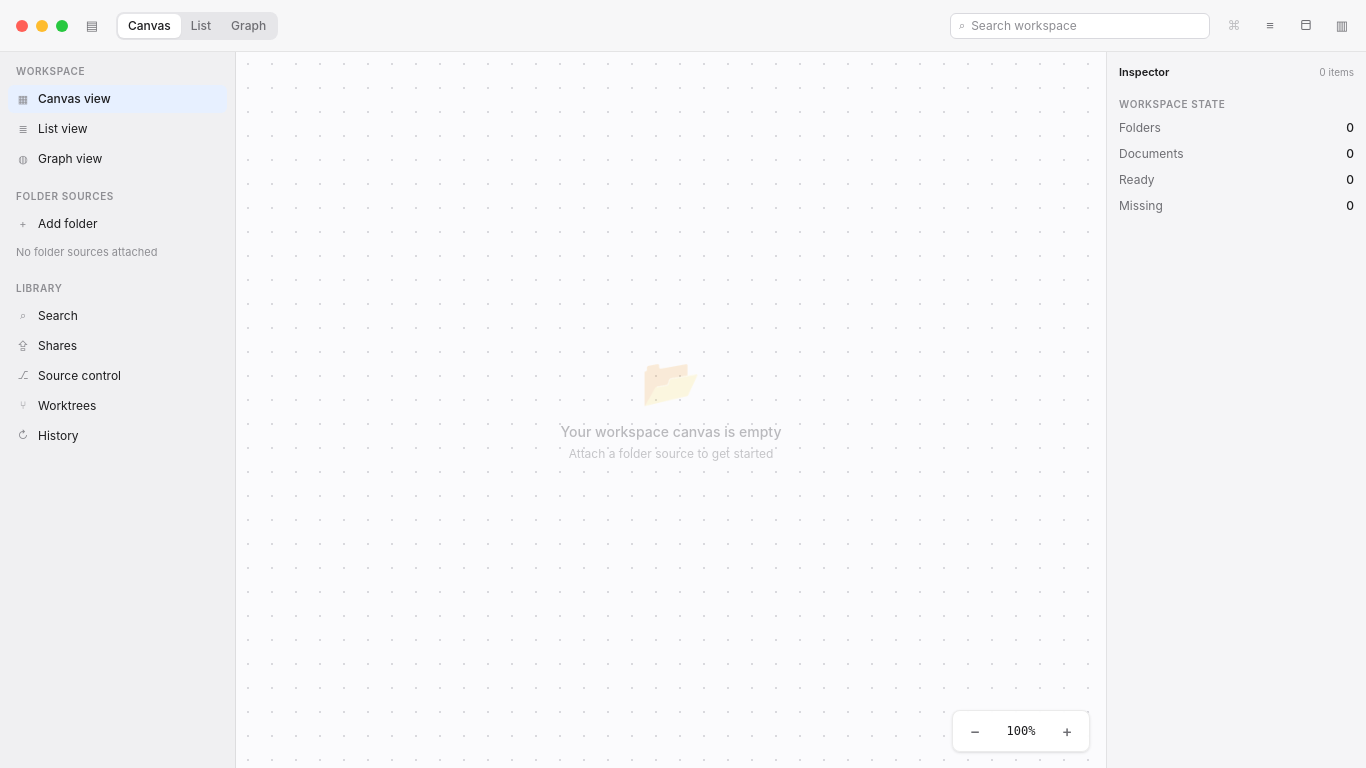
Test: UI-01 shell structure › shows the graph scope and edge legend in the inspector for the graph view
The image size is (1366, 768).
Click the radio button with test id "view-graph-btn": (249, 26) [221,14,276,38]
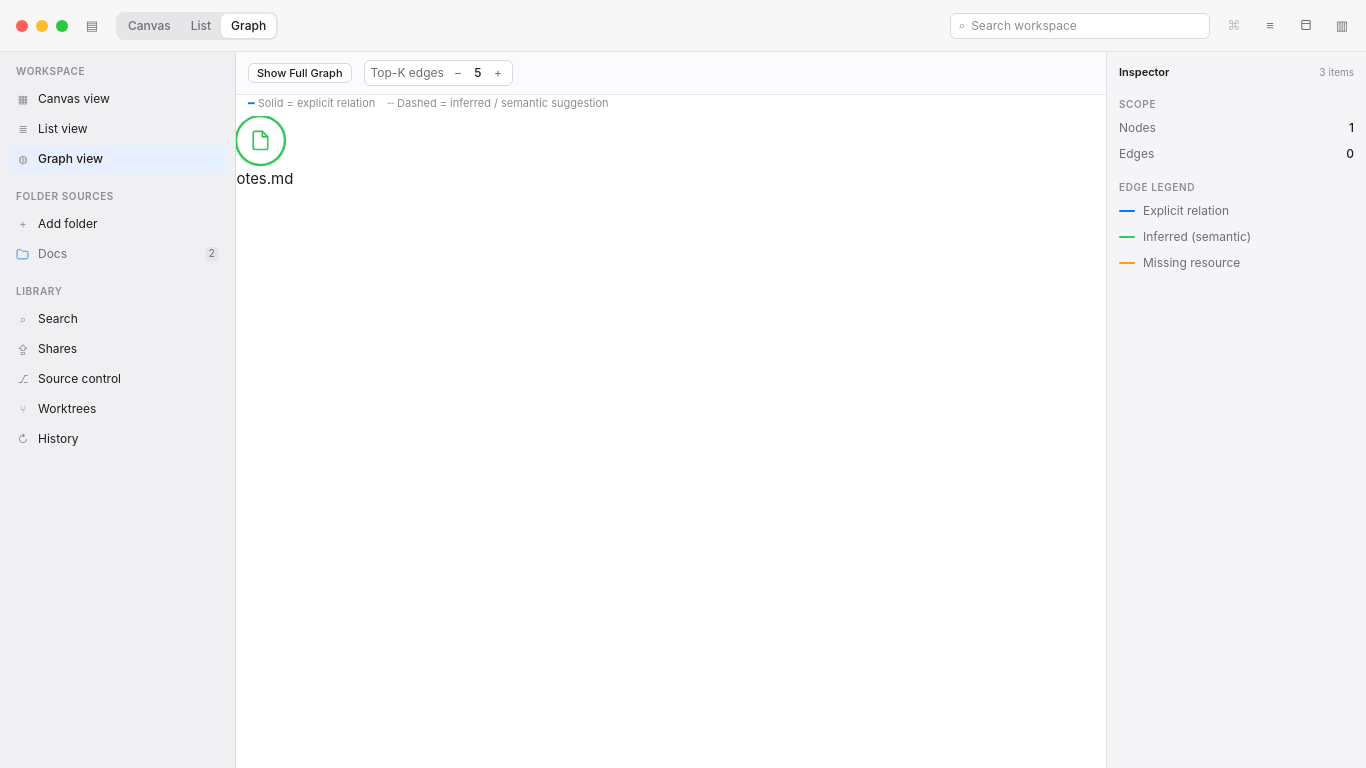
Check: the element "Scope" is shown, box [1119,96,1354,164]
Check: the element "Edge legend" is shown, box [1119,180,1251,270]
